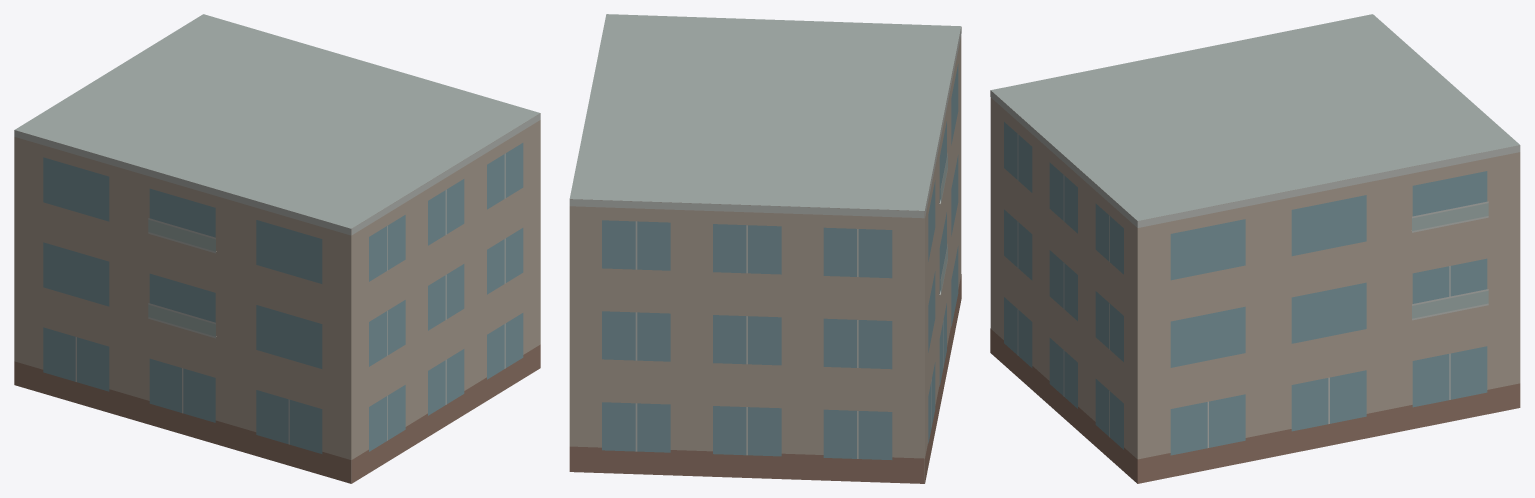
File: survey-upis-32708310.glb
3 views of the same model, side by side, from view 1: azimuth 30°, elevation 25°; view 2: azimuth 150°, elevation 25°; view 3: azimuth 270°, elevation 25° (orthographic). The views are drawn at different scales.
Parts seen in each view (by area): view 1: survey-upis-32708310.tmp; view 2: survey-upis-32708310.tmp; view 3: survey-upis-32708310.tmp.
Boxes of the visible parts, left/top/right/bottom form: survey-upis-32708310.tmp: left=14, top=14, right=540, bottom=483; survey-upis-32708310.tmp: left=569, top=14, right=961, bottom=483; survey-upis-32708310.tmp: left=990, top=14, right=1520, bottom=483.
Size of the model in its own units: 15.47 by 9.15 by 16.73.
